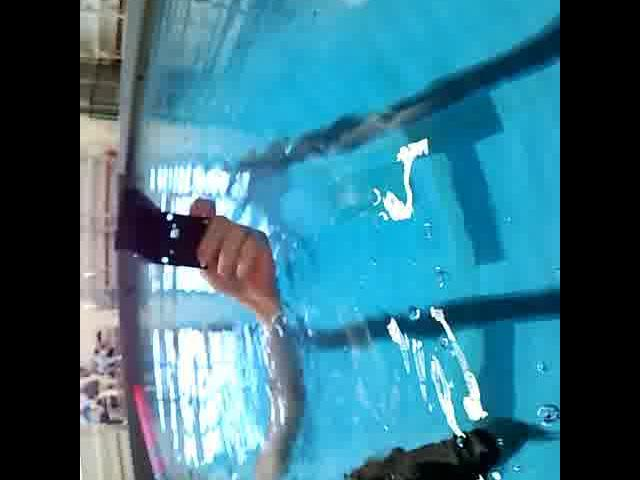CamMount: (109, 180, 212, 270)
